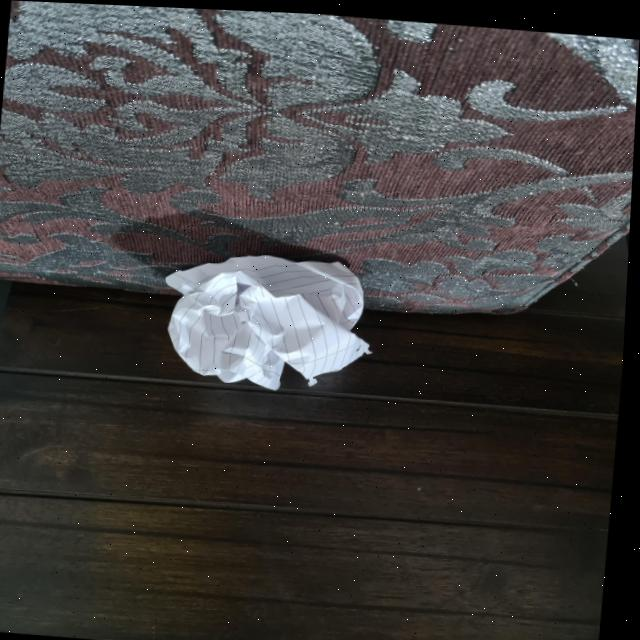Dry: (153, 242, 382, 388)
